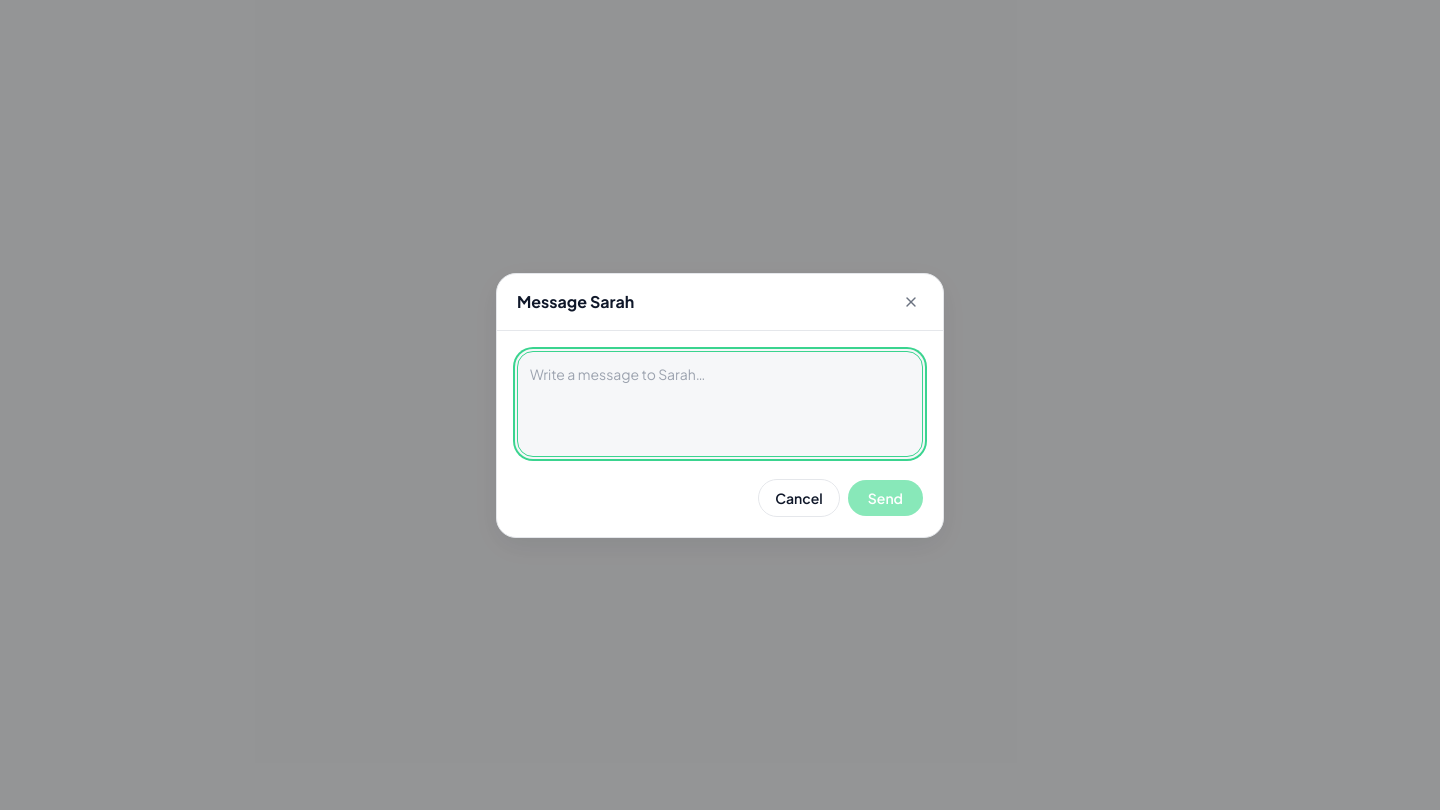
Scenario: ProfileDmModal › disables send until something is typed
Expected: the button "Send" is disabled, [848,480,923,516]
Step 1. Type "hi" into the text box with placeholder "Write a message to Sarah…" → {"x": 720, "y": 404}, box [517,350,923,456]
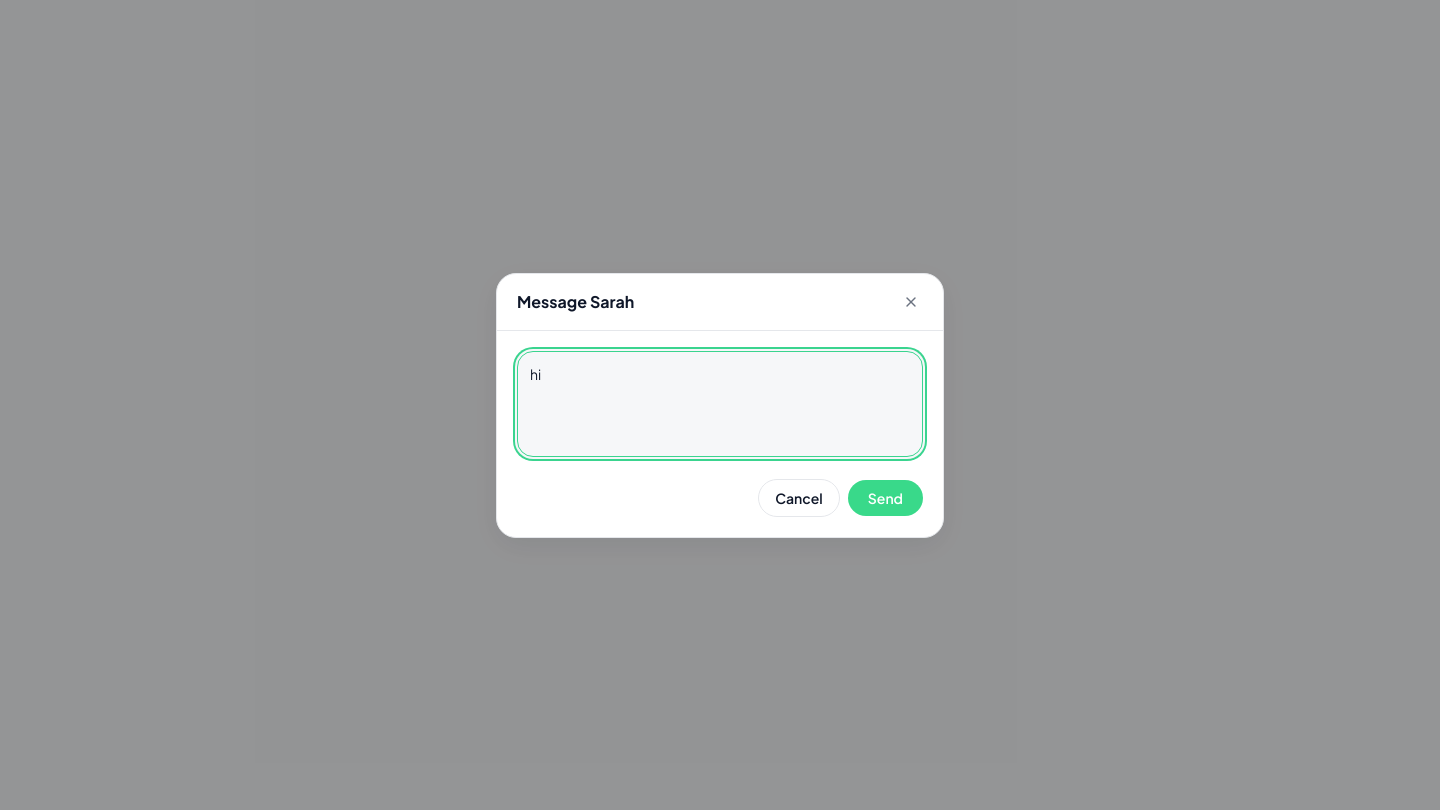
Result: the button "Send" is enabled at [848,480,923,516]
